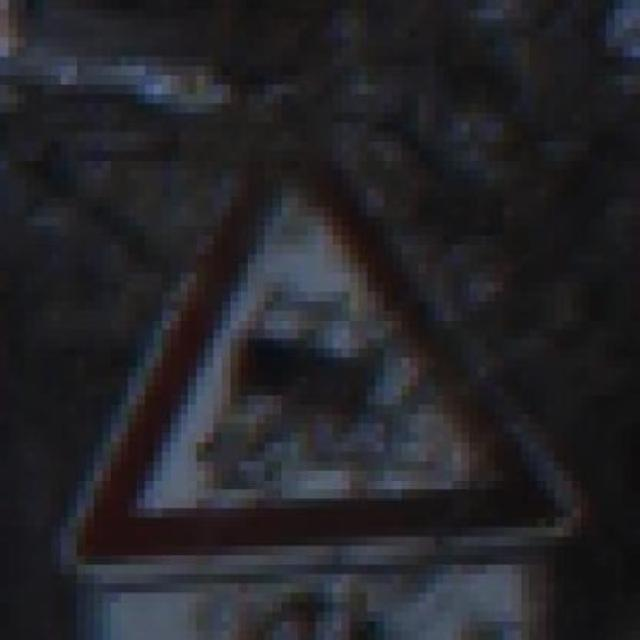Slippery Road Ahead: (34, 84, 606, 593)
